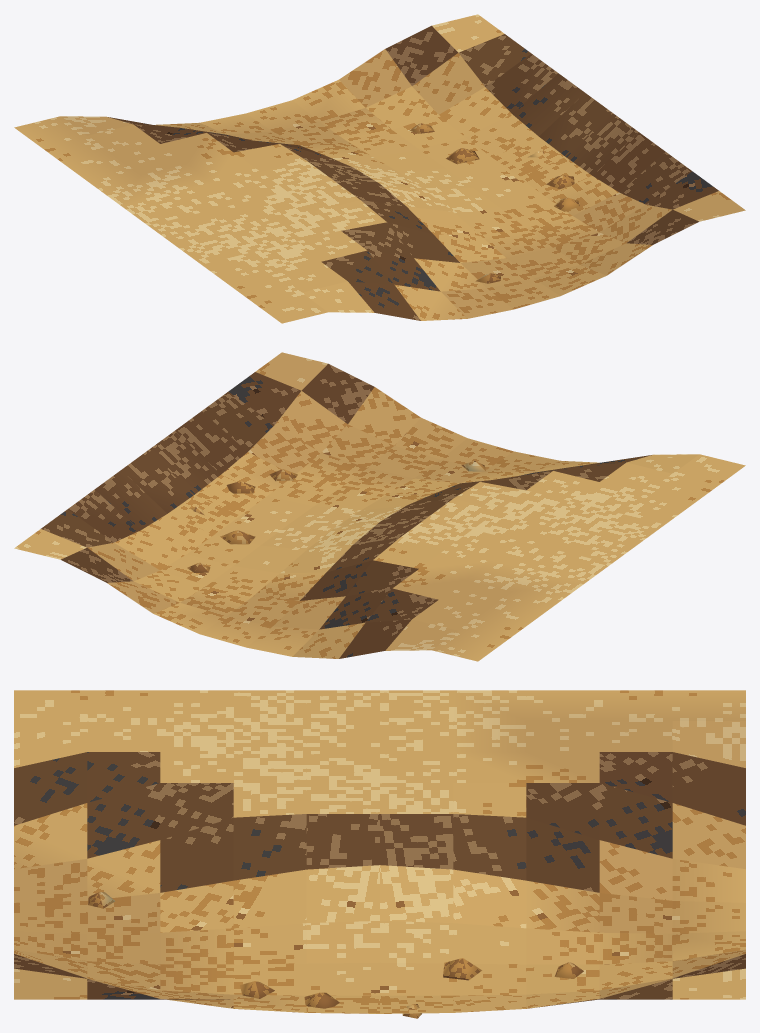
Rendered from wland.riverbed__bend.glb.
3 views of the same model, one above another, from view 1: azimuth 30°, elevation 25°; view 2: azimuth 150°, elevation 25°; view 3: azimuth 270°, elevation 25° (orthographic). The views are drawn at different scales.
Parts seen in each view (by area): view 1: kit_shell_ground, kit_stones; view 2: kit_shell_ground, kit_stones; view 3: kit_shell_ground, kit_stones.
Part boxes in pixels (box(x1,y1,x2,y2)): kit_shell_ground: box(14, 14, 745, 323); kit_stones: box(409, 123, 579, 283); kit_shell_ground: box(14, 352, 745, 661); kit_stones: box(187, 460, 485, 572); kit_shell_ground: box(14, 690, 745, 1013); kit_stones: box(88, 892, 583, 1018).
Bounding box in the file's own units: 8 × 0.7 × 8.
4 materials, 4 textured.
